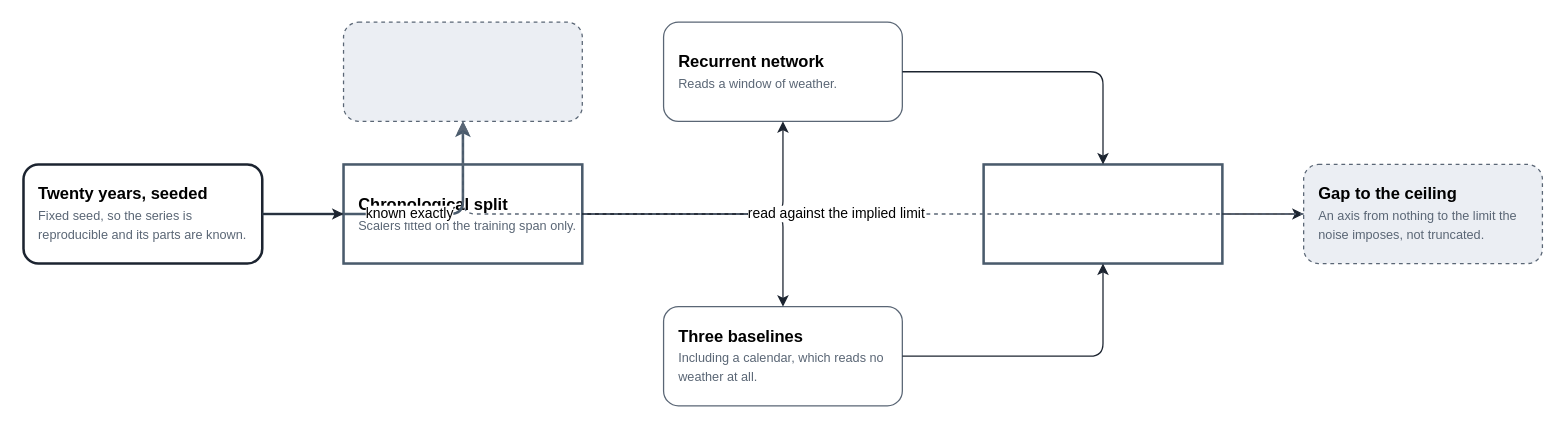
This 1565x428 diagram has some shape labels left out. Here are the shapes that lost their labels. From the top down, the centre of each, then its label:
At point 462,71: "Signal composition How much is structure and how much is independent noise.".
At point 1102,213: "Scored once A reference run is committed, so a second attempt would show.".
